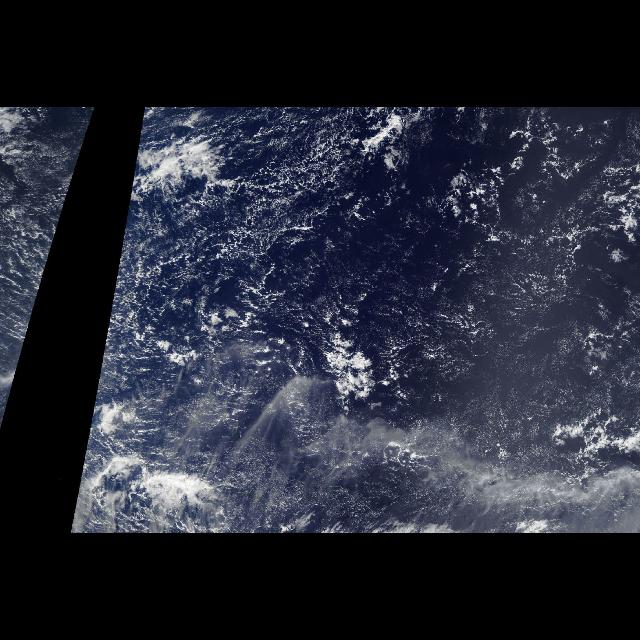Gravel: (104, 124, 638, 524), (8, 124, 92, 346)
